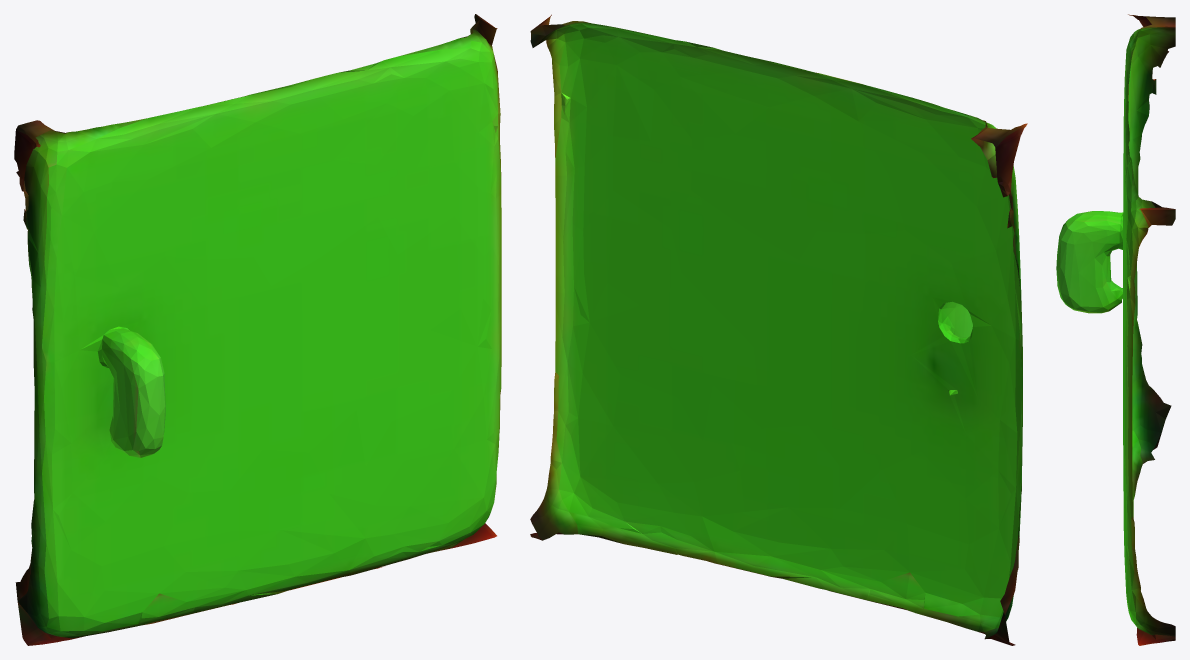
File: door_bottom_right.glb
The picture shows the model from 3 angles, left to right: view 1: azimuth 30°, elevation 25°; view 2: azimuth 150°, elevation 25°; view 3: azimuth 270°, elevation 25°; orthographic projection. The views are drawn at different scales.
Parts seen in each view (by area): view 1: source_surface_0; view 2: source_surface_0; view 3: source_surface_0.
Boxes of the visible parts, bbox=[...] form: source_surface_0: bbox=[14, 14, 501, 645]; source_surface_0: bbox=[530, 14, 1027, 645]; source_surface_0: bbox=[1056, 14, 1175, 645].
Bounding box in the file's own units: 0.0773 × 0.0807 × 0.02.
Materials: 1 (1 with a texture image).
